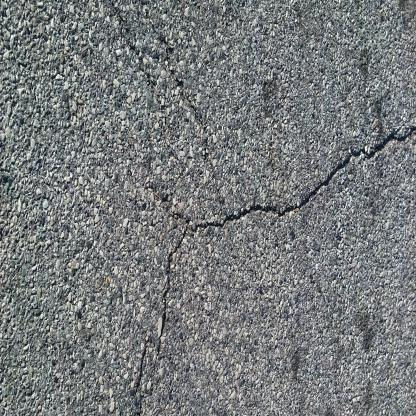Cracks: (128, 119, 415, 415)
